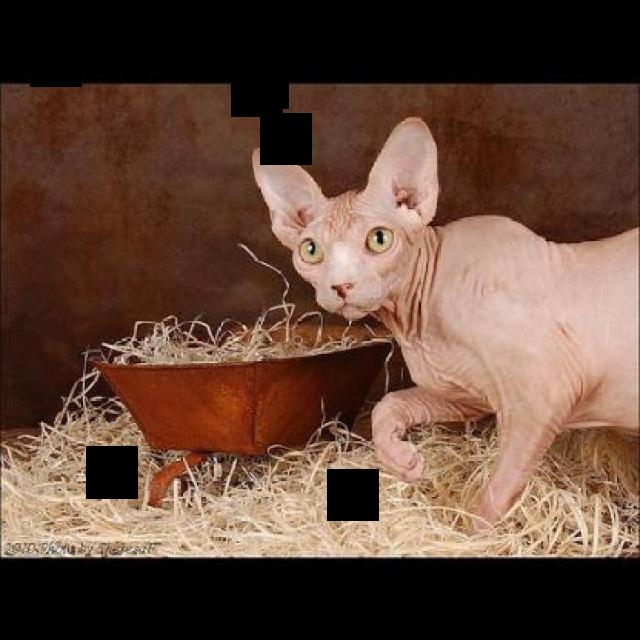unauthorized: (250, 114, 638, 534)
